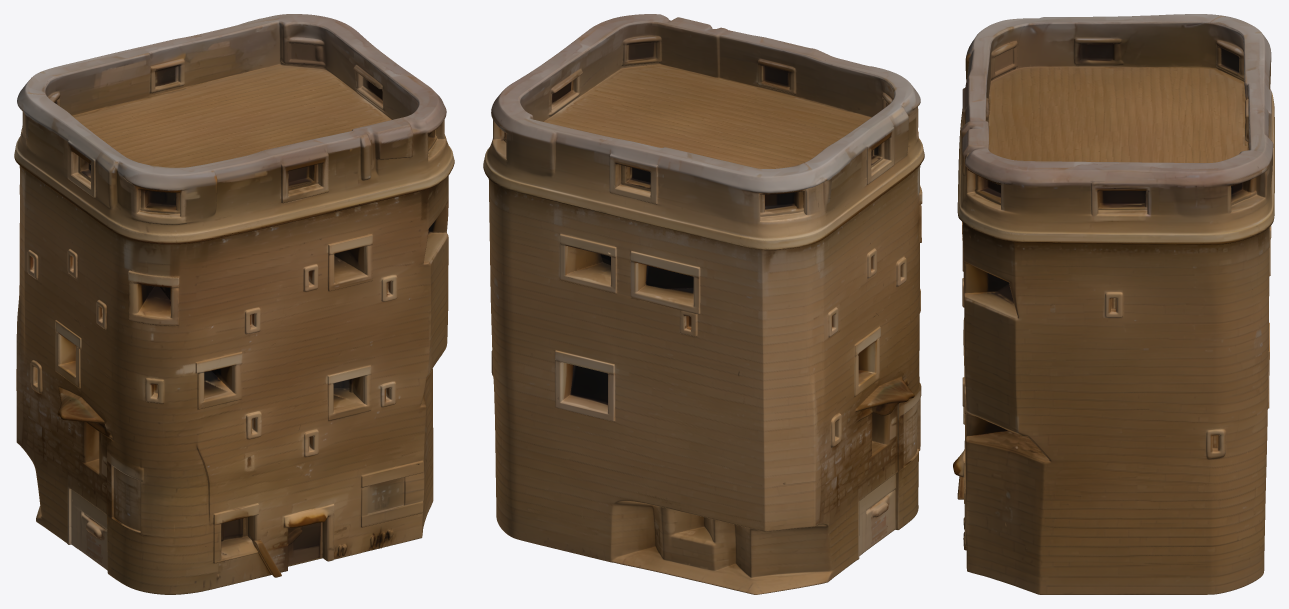
Rendered from 大协炮楼.glb.
3 renders of one model, left to right at view 1: azimuth 30°, elevation 25°; view 2: azimuth 150°, elevation 25°; view 3: azimuth 270°, elevation 25°, orthographic.
Parts seen in each view (by area): view 1: texture_pbr_v128; view 2: texture_pbr_v128; view 3: texture_pbr_v128.
Boxes of the visible parts, bbox=[...] form: texture_pbr_v128: bbox=[14, 14, 454, 594]; texture_pbr_v128: bbox=[483, 14, 924, 594]; texture_pbr_v128: bbox=[953, 14, 1274, 594].
Bounding box in the file's own units: 0.4902 × 0.5451 × 0.3755.
Materials: 1 (1 with a texture image).
